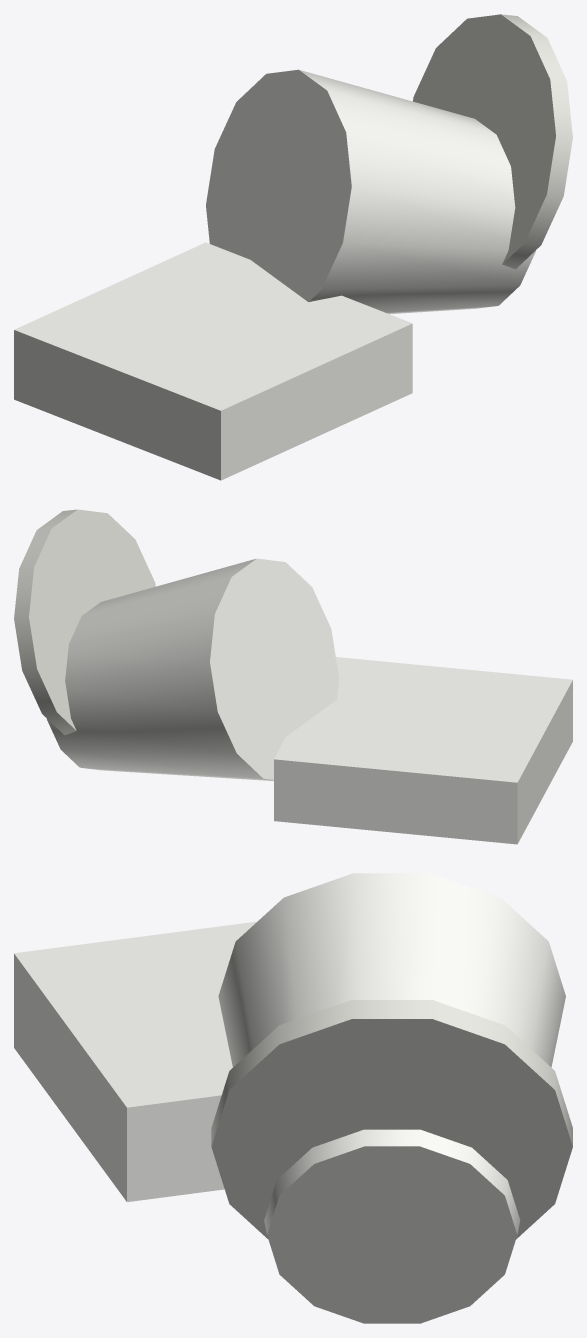
The model's file is waste_styro.fbx.
3 renders of one model, top to bottom at view 1: azimuth 30°, elevation 25°; view 2: azimuth 150°, elevation 25°; view 3: azimuth 270°, elevation 25°, orthographic. The views are drawn at different scales.
Visible parts, largest first — view 1: M__waste_styro; view 2: M__waste_styro; view 3: M__waste_styro.
Part boxes in pixels (<box>): M__waste_styro: <box>14,14,572,480</box>; M__waste_styro: <box>14,509,572,844</box>; M__waste_styro: <box>14,873,572,1323</box>.
Size of the model in its own units: 0.2356 by 0.1134 by 0.1608.
